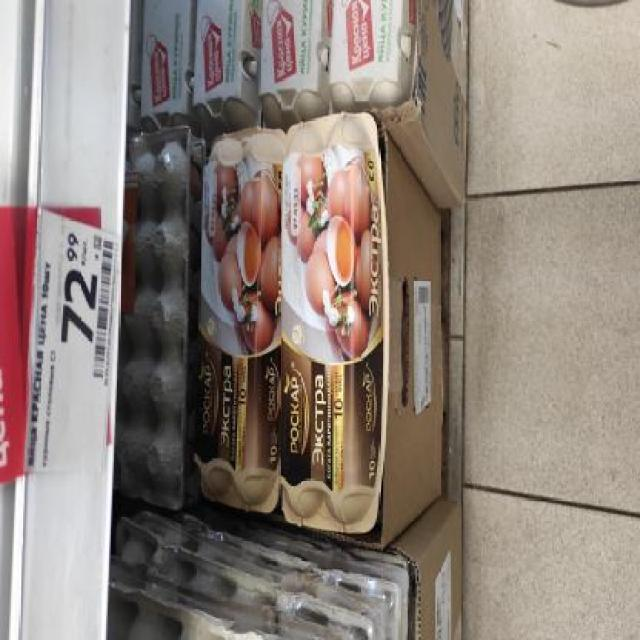egg: (280, 112, 382, 530), (196, 122, 281, 524), (330, 0, 414, 115), (194, 0, 260, 128), (260, 0, 326, 115), (137, 0, 194, 128)
